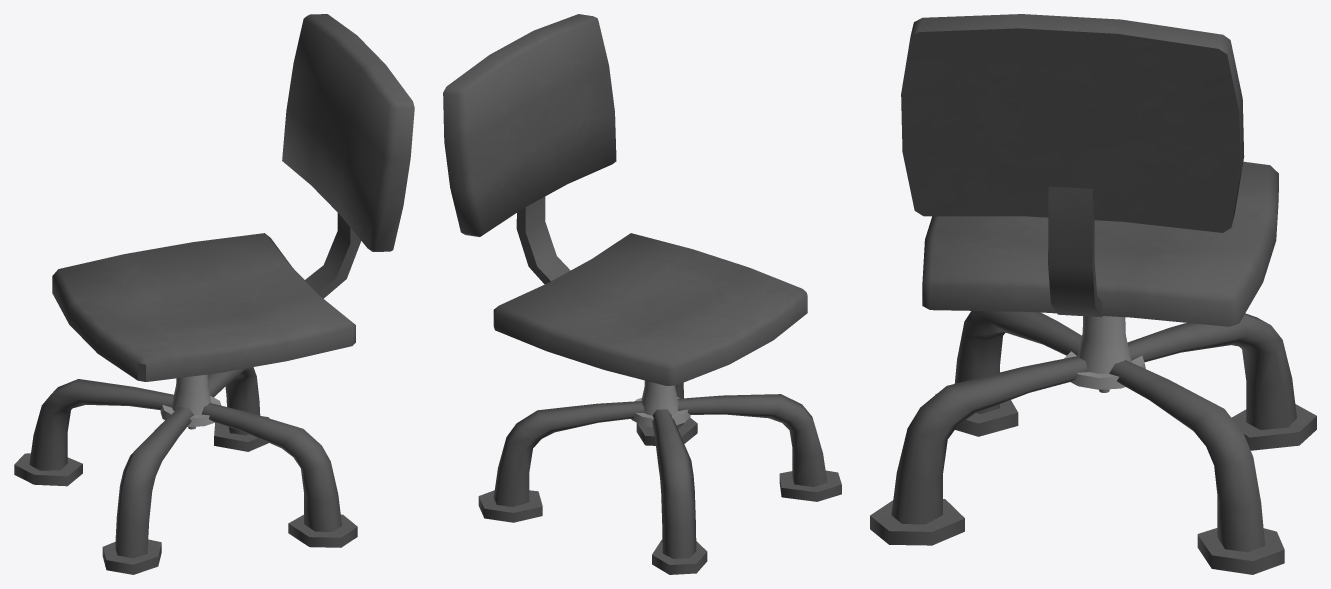
File: ChairBaseMerged.fbx
The picture shows the model from 3 angles, left to right: view 1: azimuth 30°, elevation 25°; view 2: azimuth 150°, elevation 25°; view 3: azimuth 270°, elevation 25°; orthographic projection. The views are drawn at different scales.
Parts seen in each view (by area): view 1: chairBase_merged; view 2: chairBase_merged; view 3: chairBase_merged.
Boxes of the visible parts, x1,y1,x2,y2 form: chairBase_merged: (14,14,414,574); chairBase_merged: (443,14,841,574); chairBase_merged: (870,14,1316,574).
Bounding box in the file's own units: 2.27 × 2.91 × 2.07.
